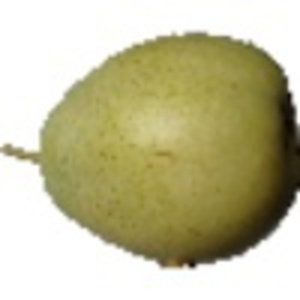pera: (1, 31, 300, 272)
